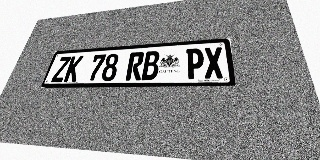7: (86, 54, 106, 81)
8: (100, 53, 120, 81)
B: (141, 51, 160, 80)
K: (63, 56, 84, 82)
P: (186, 48, 204, 79)
R: (125, 52, 145, 81)
X: (204, 47, 224, 79)
Z: (51, 56, 71, 82)
